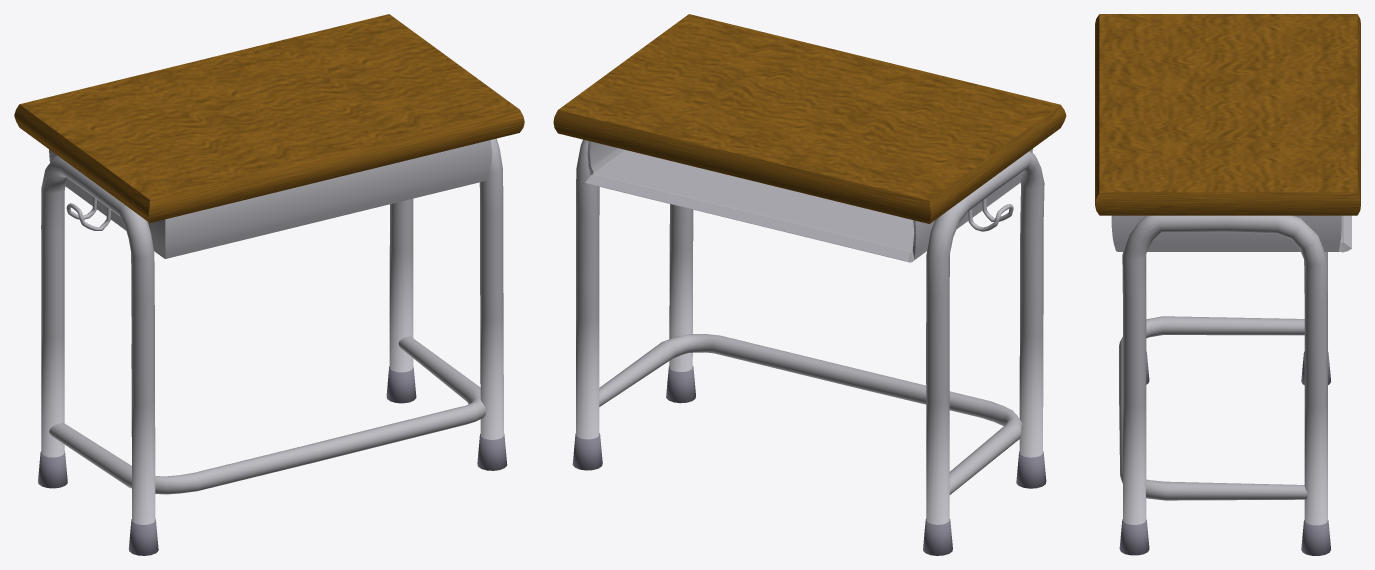
The model's file is Aseet_Desk.fbx.
The picture shows the model from 3 angles, left to right: view 1: azimuth 30°, elevation 25°; view 2: azimuth 150°, elevation 25°; view 3: azimuth 270°, elevation 25°; orthographic projection.
Visible parts, largest first — view 1: SK_Desk; view 2: SK_Desk; view 3: SK_Desk.
Part boxes in pixels (x1,y1,x2,y2): SK_Desk: (14,14,524,555); SK_Desk: (553,14,1066,555); SK_Desk: (1095,14,1360,555).
Bounding box in the file's own units: 15.99 × 14.48 × 9.65.
